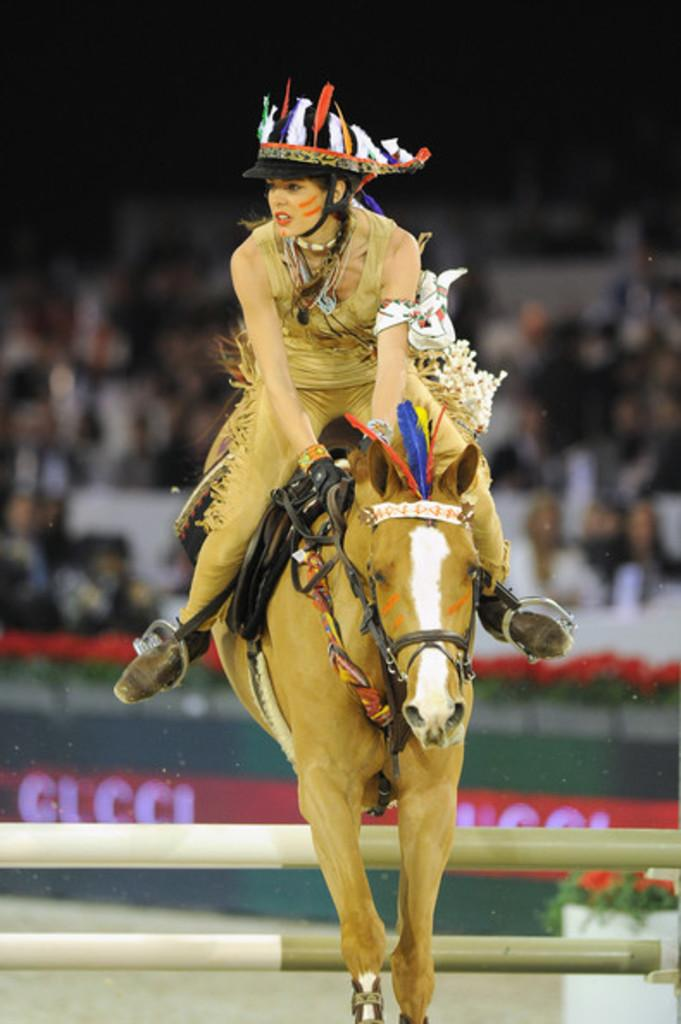Hat: (234, 82, 432, 239)
